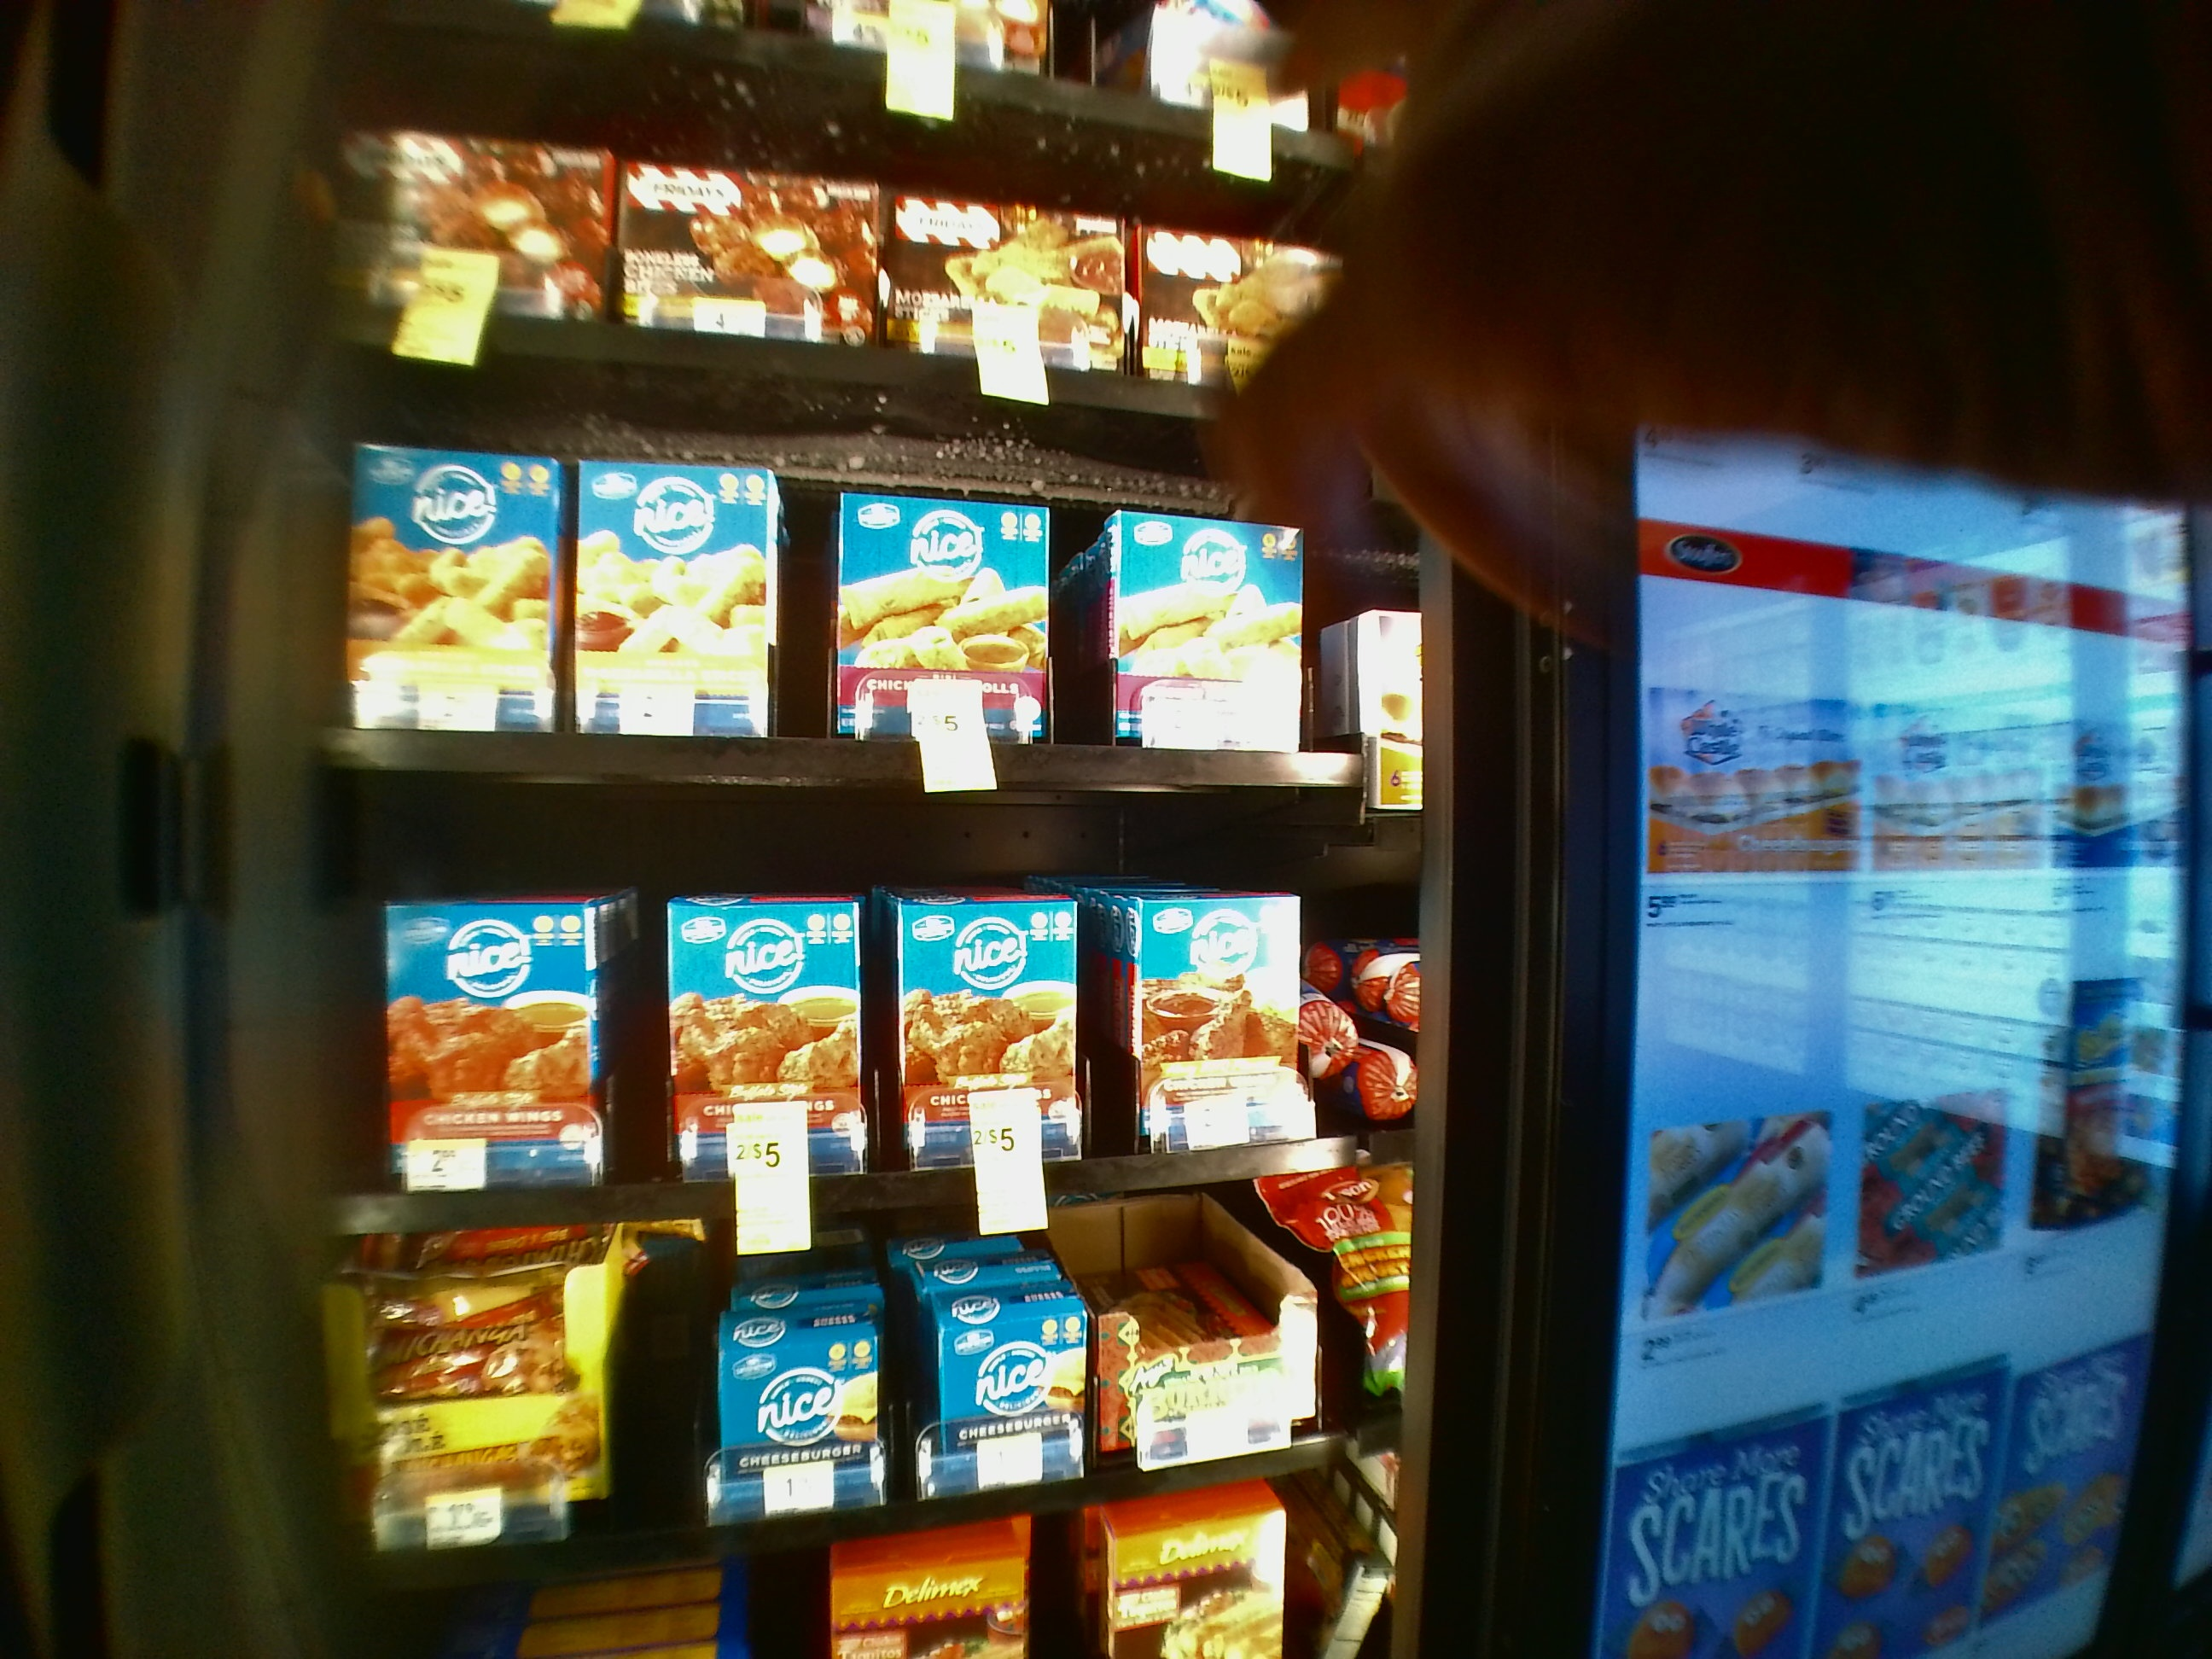shelf: (310, 347, 1416, 782), (308, 798, 1407, 1229)
